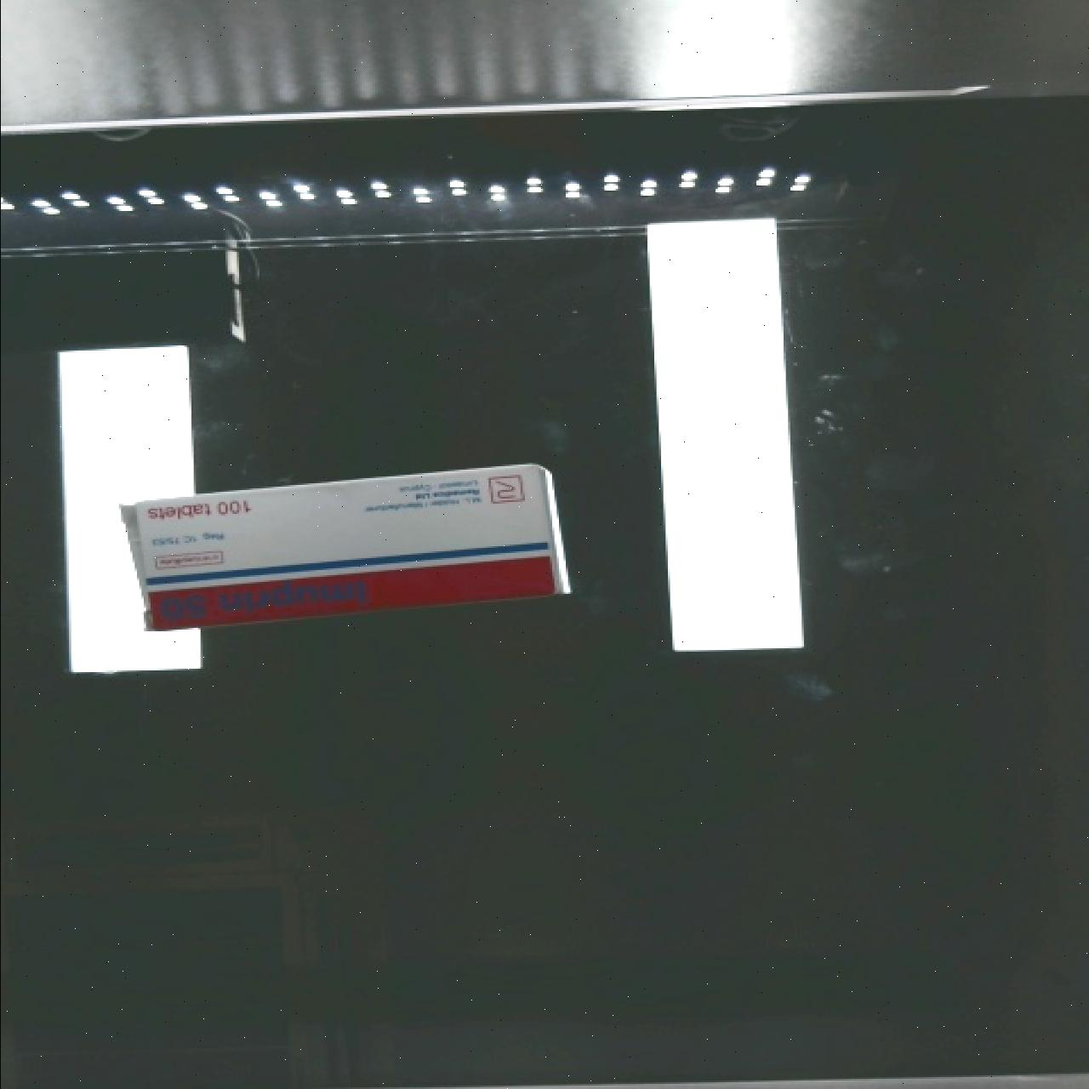medicine_label_obb: (148, 560, 378, 638)
